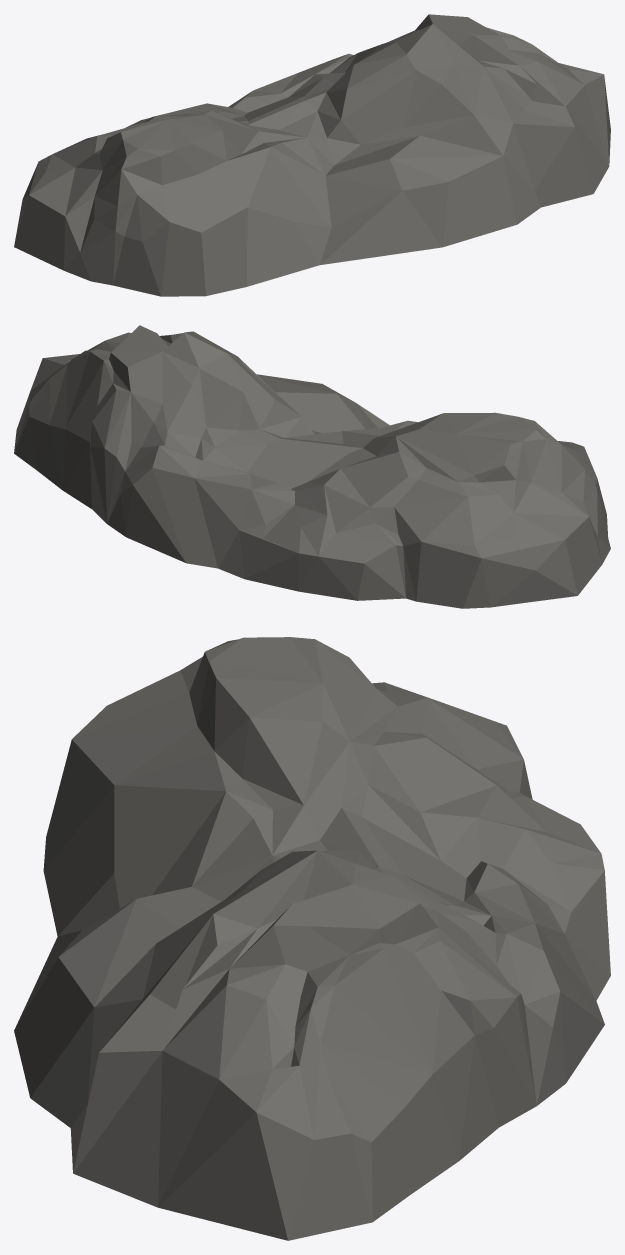
File: SM_Env_Cliff_10.fbx
3 renders of one model, top to bottom at view 1: azimuth 30°, elevation 25°; view 2: azimuth 150°, elevation 25°; view 3: azimuth 270°, elevation 25°, orthographic. The views are drawn at different scales.
Visible parts, largest first — view 1: SM_Env_Cliff_10; view 2: SM_Env_Cliff_10; view 3: SM_Env_Cliff_10.
Boxes of the visible parts, box(x1,y1,x2,y2) form: SM_Env_Cliff_10: box(14, 14, 610, 296); SM_Env_Cliff_10: box(14, 325, 610, 608); SM_Env_Cliff_10: box(14, 637, 610, 1240).
Bounding box in the file's own units: 1388 × 329 × 724.
